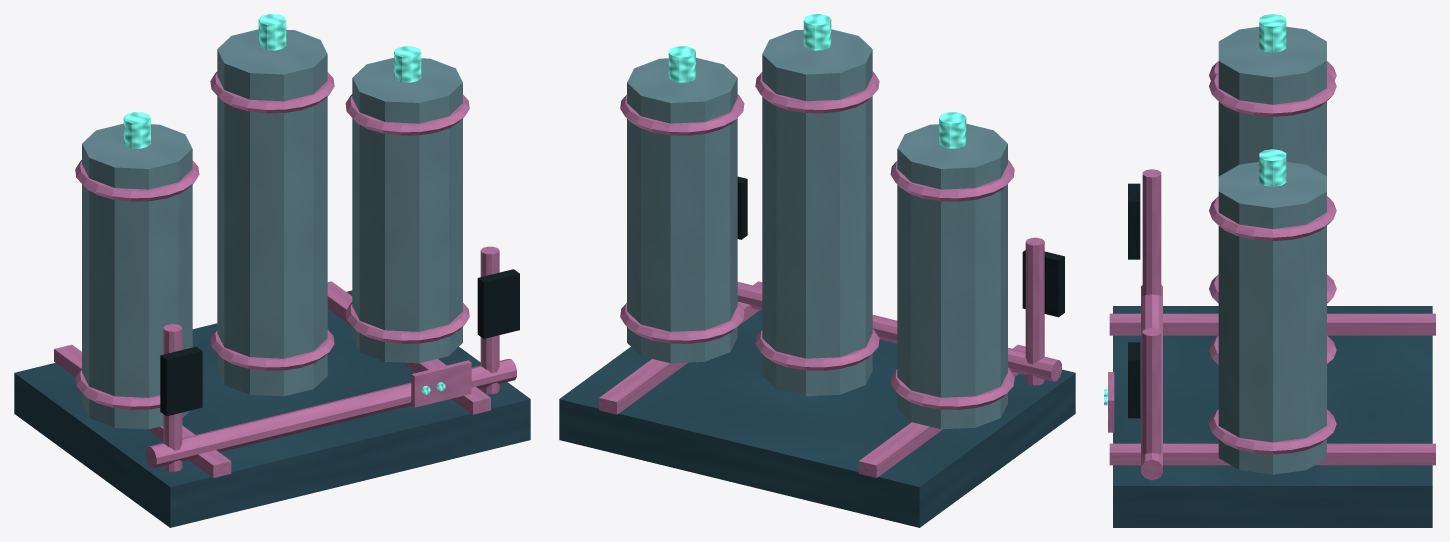
Rendered from atlas100-s065-a02.glb.
3 views of the same model, side by side, from view 1: azimuth 30°, elevation 25°; view 2: azimuth 150°, elevation 25°; view 3: azimuth 270°, elevation 25° (orthographic). The views are drawn at different scales.
Visible parts, largest first — view 1: atlas100-s065-a02:part-000, atlas100-s065-a02:part-007, atlas100-s065-a02:part-011, atlas100-s065-a02:part-003, atlas100-s065-a02:part-019, atlas100-s065-a02:part-016, atlas100-s065-a02:part-018, atlas100-s065-a02:part-020, atlas100-s065-a02:part-005, atlas100-s065-a02:part-008, atlas100-s065-a02:part-009, atlas100-s065-a02:part-012 (+9 smaller); view 2: atlas100-s065-a02:part-000, atlas100-s065-a02:part-007, atlas100-s065-a02:part-003, atlas100-s065-a02:part-011, atlas100-s065-a02:part-015, atlas100-s065-a02:part-002, atlas100-s065-a02:part-019, atlas100-s065-a02:part-001, atlas100-s065-a02:part-005, atlas100-s065-a02:part-008, atlas100-s065-a02:part-009, atlas100-s065-a02:part-012 (+7 smaller); view 3: atlas100-s065-a02:part-000, atlas100-s065-a02:part-011, atlas100-s065-a02:part-007, atlas100-s065-a02:part-002, atlas100-s065-a02:part-001, atlas100-s065-a02:part-017, atlas100-s065-a02:part-015, atlas100-s065-a02:part-012, atlas100-s065-a02:part-009, atlas100-s065-a02:part-013, atlas100-s065-a02:part-019, atlas100-s065-a02:part-016 (+7 smaller).
Part boxes in pixels (box(x1,y1,x2,y2)): atlas100-s065-a02:part-000: box(14, 290, 530, 527); atlas100-s065-a02:part-007: box(217, 29, 327, 396); atlas100-s065-a02:part-011: box(352, 57, 462, 363); atlas100-s065-a02:part-003: box(82, 123, 192, 429); atlas100-s065-a02:part-019: box(146, 359, 516, 467); atlas100-s065-a02:part-016: box(160, 346, 202, 416); atlas100-s065-a02:part-018: box(477, 269, 519, 338); atlas100-s065-a02:part-020: box(411, 360, 471, 407); atlas100-s065-a02:part-005: box(75, 160, 199, 201); atlas100-s065-a02:part-008: box(210, 329, 334, 370); atlas100-s065-a02:part-009: box(210, 71, 334, 113); atlas100-s065-a02:part-012: box(345, 302, 469, 343); atlas100-s065-a02:part-000: box(559, 310, 1075, 527); atlas100-s065-a02:part-007: box(762, 29, 872, 396); atlas100-s065-a02:part-003: box(897, 123, 1007, 429); atlas100-s065-a02:part-011: box(627, 57, 737, 363); atlas100-s065-a02:part-015: box(1025, 237, 1044, 385); atlas100-s065-a02:part-002: box(599, 281, 762, 414); atlas100-s065-a02:part-019: box(737, 282, 1061, 381); atlas100-s065-a02:part-001: box(858, 344, 1025, 477); atlas100-s065-a02:part-005: box(890, 160, 1014, 201); atlas100-s065-a02:part-008: box(755, 329, 879, 370); atlas100-s065-a02:part-009: box(755, 71, 879, 113); atlas100-s065-a02:part-012: box(620, 302, 744, 343); atlas100-s065-a02:part-000: box(1113, 306, 1432, 527); atlas100-s065-a02:part-011: box(1218, 162, 1326, 474); atlas100-s065-a02:part-007: box(1218, 31, 1326, 176); atlas100-s065-a02:part-002: box(1109, 443, 1435, 465); atlas100-s065-a02:part-001: box(1109, 313, 1435, 335); atlas100-s065-a02:part-017: box(1142, 328, 1161, 476); atlas100-s065-a02:part-015: box(1142, 169, 1161, 295); atlas100-s065-a02:part-012: box(1209, 409, 1336, 454); atlas100-s065-a02:part-009: box(1209, 72, 1336, 116); atlas100-s065-a02:part-013: box(1209, 196, 1336, 240); atlas100-s065-a02:part-019: box(1141, 285, 1162, 480); atlas100-s065-a02:part-016: box(1128, 183, 1140, 259).
Size of the model in its own units: 2.52 by 2.59 by 1.87.
Materials: 5 (5 with a texture image).
